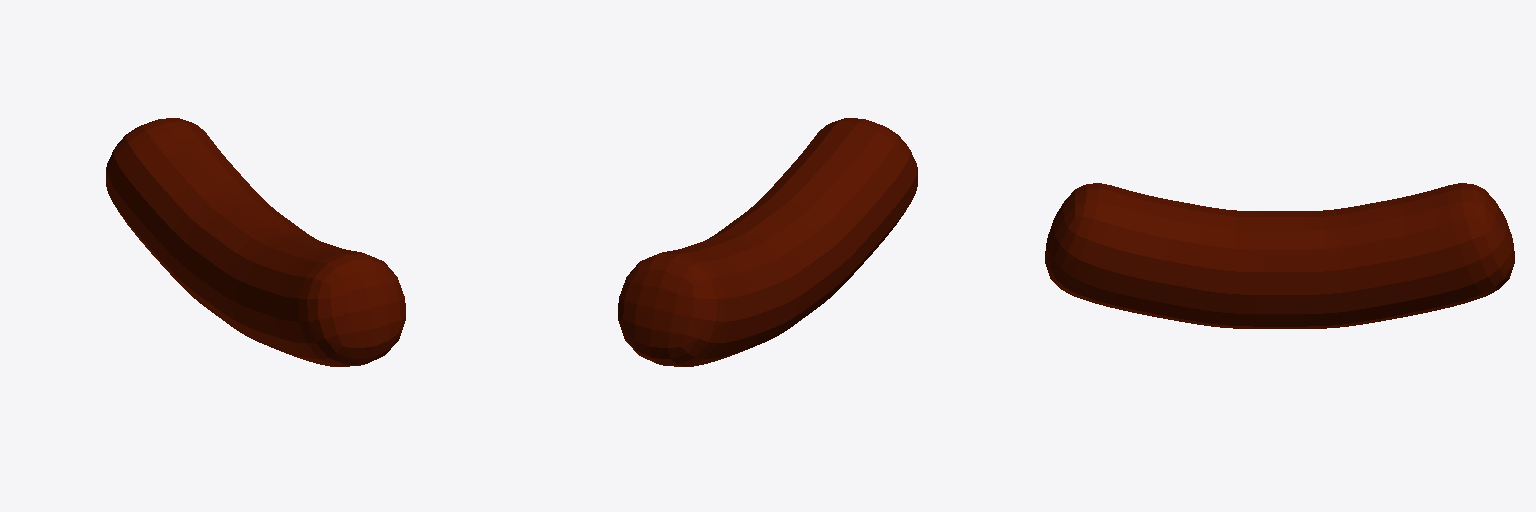
File: Sausage01.obj
3 views of the same model, side by side, from view 1: azimuth 30°, elevation 25°; view 2: azimuth 150°, elevation 25°; view 3: azimuth 270°, elevation 25° (orthographic).
Visible parts, largest first — view 1: Sausage01_Cylinder.004; view 2: Sausage01_Cylinder.004; view 3: Sausage01_Cylinder.004.
Boxes of the visible parts, x1=… form: Sausage01_Cylinder.004: x1=106, y1=118, x2=405, y2=366; Sausage01_Cylinder.004: x1=618, y1=118, x2=917, y2=366; Sausage01_Cylinder.004: x1=1045, y1=183, x2=1514, y2=328.
Size of the model in its own units: 0.7352 by 0.9317 by 2.97.